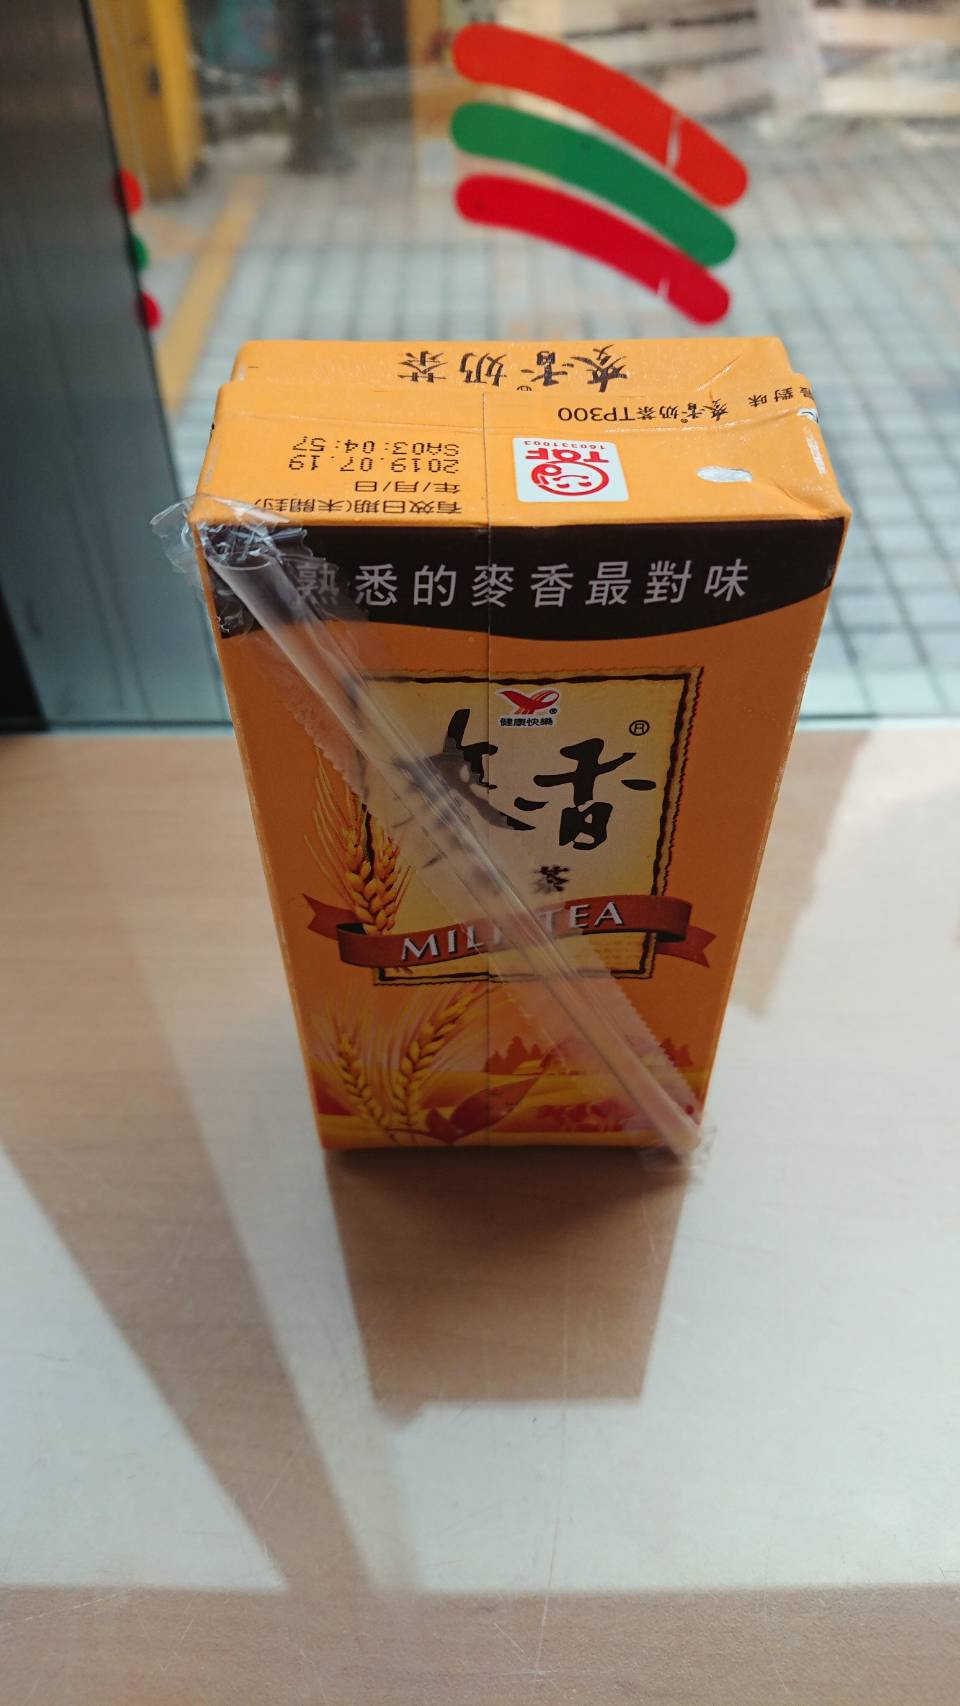milk tea: (200, 336, 850, 1166)
